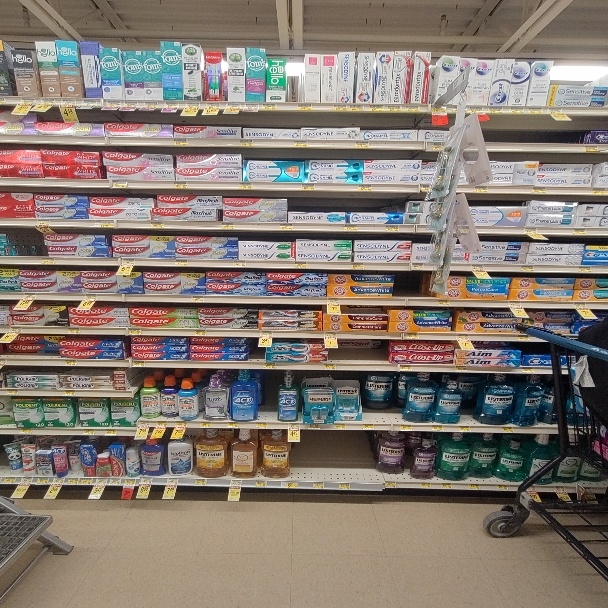All PRICE TAGS: (296, 103, 313, 111), (572, 228, 588, 236), (507, 300, 522, 308), (584, 145, 599, 153), (432, 105, 447, 113), (333, 104, 348, 112), (104, 101, 121, 108), (96, 221, 115, 227), (279, 222, 293, 230), (357, 184, 373, 191), (573, 301, 587, 309), (344, 224, 358, 232), (472, 186, 488, 193), (468, 106, 484, 113), (163, 102, 179, 109), (385, 104, 401, 111), (282, 480, 297, 487), (127, 328, 142, 335), (120, 258, 135, 265), (238, 182, 253, 189), (112, 181, 127, 188), (520, 264, 535, 271), (35, 219, 50, 226), (149, 221, 164, 228), (592, 188, 607, 195), (239, 139, 254, 146), (529, 107, 544, 114), (510, 107, 525, 114), (488, 106, 503, 113), (61, 98, 76, 105), (21, 97, 36, 104), (186, 102, 201, 109), (225, 103, 240, 110), (123, 478, 136, 486), (356, 140, 369, 148), (405, 105, 422, 111), (122, 102, 139, 108), (204, 103, 221, 109), (229, 479, 243, 486), (287, 420, 301, 427), (130, 361, 144, 368), (385, 224, 399, 231), (350, 263, 364, 270), (294, 262, 308, 269), (233, 260, 247, 267), (2, 476, 16, 483), (399, 424, 413, 431), (82, 428, 96, 435), (61, 390, 75, 397), (5, 389, 19, 396), (41, 257, 55, 264), (84, 294, 98, 301), (516, 334, 530, 341), (579, 266, 593, 273), (470, 264, 484, 271), (221, 222, 235, 229), (548, 107, 562, 114), (82, 98, 96, 105), (350, 105, 364, 112), (174, 139, 188, 146), (369, 104, 383, 111), (172, 182, 188, 188), (67, 477, 79, 485), (531, 187, 547, 193), (142, 102, 158, 108), (312, 482, 325, 489), (194, 478, 207, 485), (166, 477, 179, 484), (140, 477, 153, 484), (362, 423, 375, 430), (155, 420, 168, 427), (327, 298, 340, 305), (301, 184, 314, 191), (467, 483, 480, 490), (501, 426, 514, 433), (437, 299, 450, 306), (524, 227, 537, 234), (295, 140, 308, 147), (254, 420, 269, 426), (174, 260, 189, 266), (37, 477, 48, 485), (20, 477, 31, 485), (255, 480, 267, 487), (333, 423, 347, 429), (227, 420, 241, 426), (324, 364, 338, 370), (263, 364, 277, 370), (260, 330, 274, 336), (191, 296, 205, 302), (553, 486, 565, 493), (440, 482, 452, 489), (419, 482, 433, 488), (96, 478, 108, 485), (52, 477, 64, 484), (104, 429, 118, 435), (19, 428, 33, 434), (10, 326, 22, 333), (399, 364, 411, 371), (23, 293, 37, 299), (41, 98, 55, 104), (245, 103, 259, 109), (265, 103, 279, 109), (339, 483, 352, 489), (200, 420, 213, 426), (176, 420, 189, 426), (137, 421, 150, 427), (324, 331, 337, 337), (496, 484, 509, 490), (67, 327, 80, 333), (522, 367, 535, 373), (194, 330, 207, 336), (406, 332, 419, 338), (109, 478, 120, 485), (433, 143, 444, 150), (385, 482, 397, 488), (459, 426, 471, 432), (432, 425, 444, 431), (65, 359, 77, 365), (455, 366, 467, 372), (82, 478, 93, 484), (457, 333, 468, 339), (413, 263, 424, 269), (527, 485, 536, 492), (308, 425, 320, 430)
